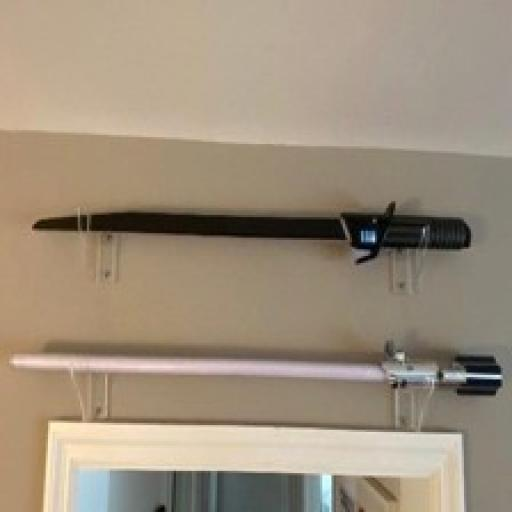lightsaber: (9, 341, 504, 400), (32, 202, 473, 267)
